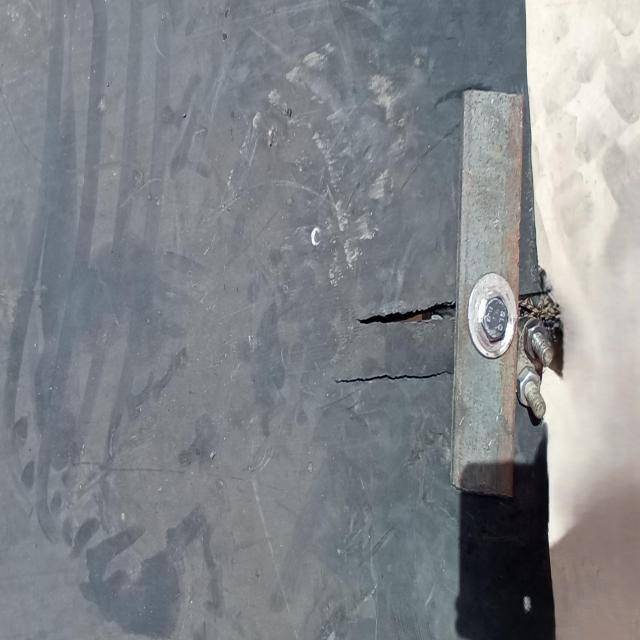Tear: (330, 361, 457, 392), (349, 295, 459, 330)
